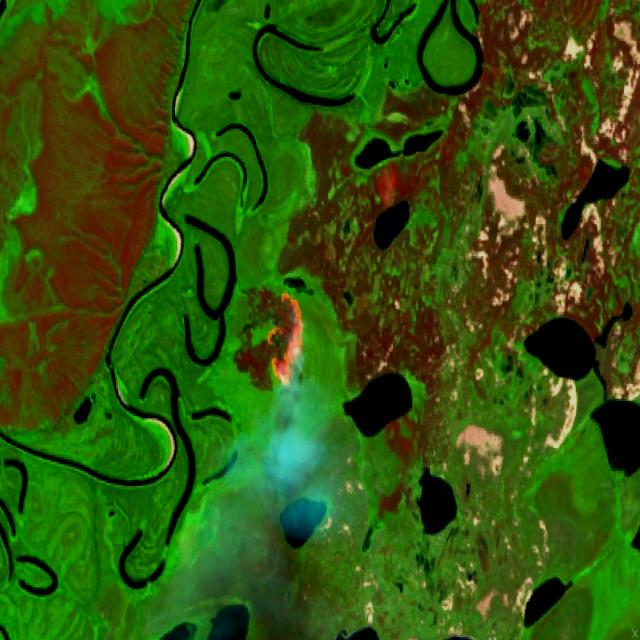fire: (260, 286, 311, 392)
